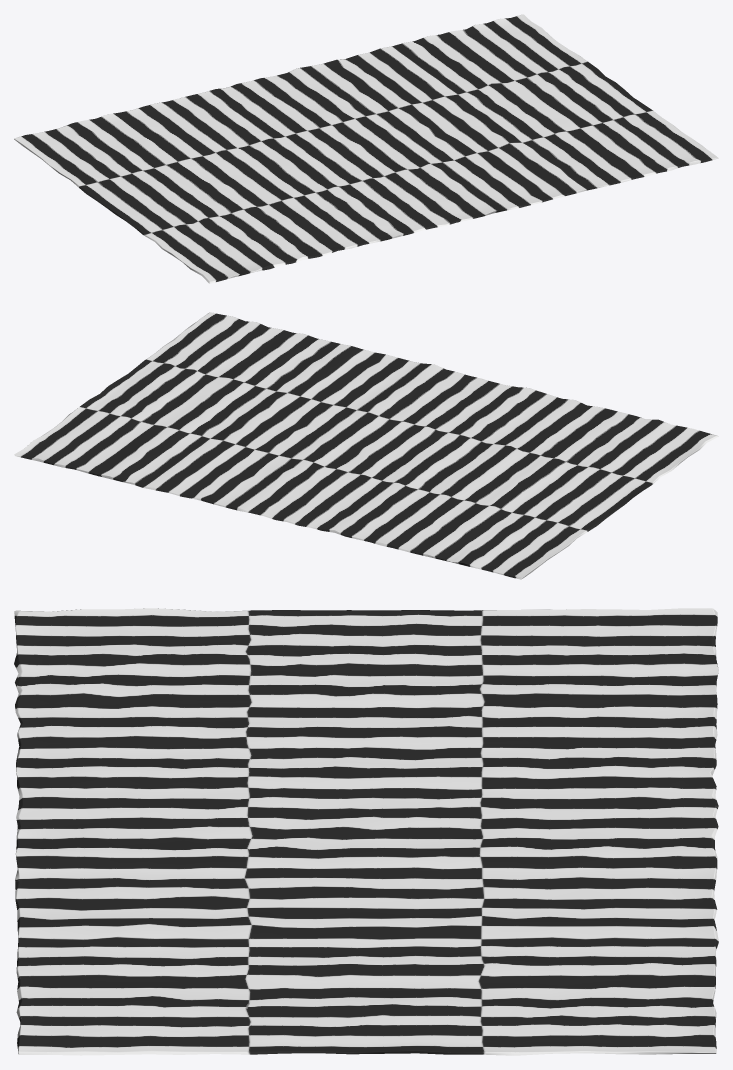
Rendered from Rug.gltf.
3 views of the same model, one above another, from view 1: azimuth 30°, elevation 25°; view 2: azimuth 150°, elevation 25°; view 3: azimuth 270°, elevation 25° (orthographic). The views are drawn at different scales.
Parts seen in each view (by area): view 1: Chocofur_Free_Details_41; view 2: Chocofur_Free_Details_41; view 3: Chocofur_Free_Details_41.
Part boxes in pixels (left/top/right/bottom): Chocofur_Free_Details_41: left=14, top=14, right=718, bottom=283; Chocofur_Free_Details_41: left=14, top=312, right=718, bottom=579; Chocofur_Free_Details_41: left=14, top=608, right=718, bottom=1055.
Bounding box in the file's own units: 2.42 × 0.0227 × 1.62.
2 materials, 1 textured.
